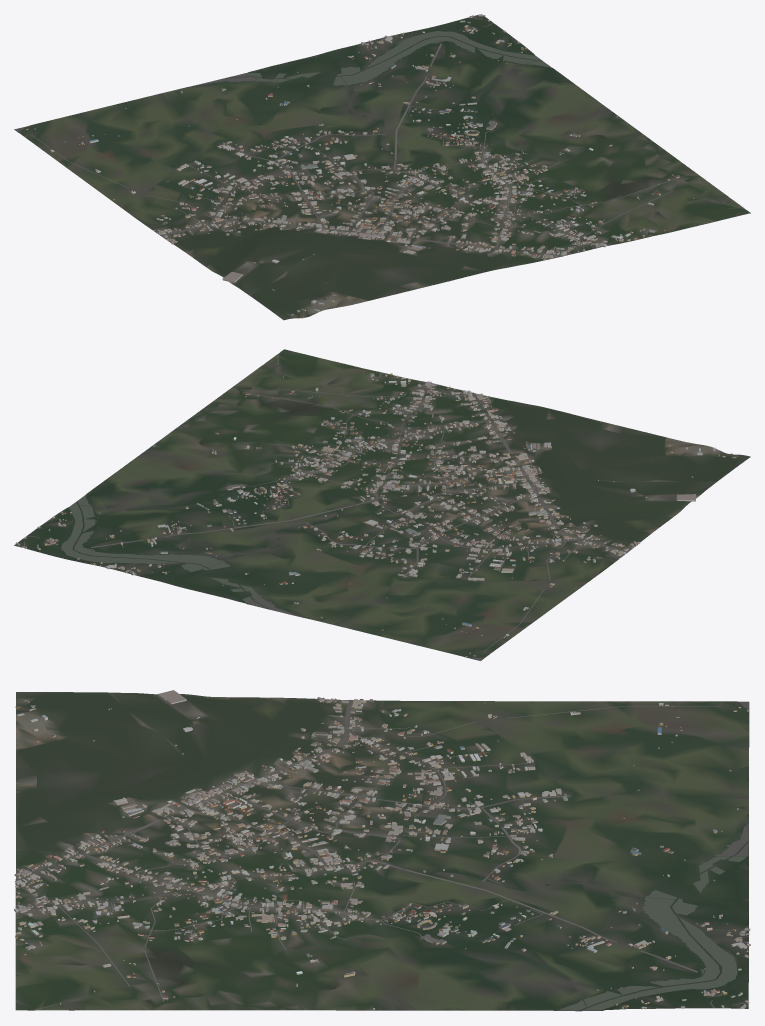
The picture shows the model from 3 angles, top to bottom: view 1: azimuth 30°, elevation 25°; view 2: azimuth 150°, elevation 25°; view 3: azimuth 270°, elevation 25°; orthographic projection. The views are drawn at different scales.
Parts seen in each view (by area): view 1: ground, buildings, water, roads; view 2: ground, buildings, water, roads; view 3: ground, buildings, water, roads.
Boxes of the visible parts, bbox=[...] form: ground: bbox=[14, 15, 750, 320]; buildings: bbox=[25, 14, 725, 318]; water: bbox=[14, 31, 550, 131]; roads: bbox=[31, 15, 743, 256]; ground: bbox=[14, 349, 750, 660]; buildings: bbox=[15, 363, 736, 656]; water: bbox=[61, 493, 483, 660]; roads: bbox=[19, 354, 627, 651]; ground: bbox=[15, 692, 749, 1011]; buildings: bbox=[14, 690, 750, 1009]; water: bbox=[459, 701, 748, 1010]; roads: bbox=[15, 700, 748, 1010].
Size of the model in its own units: 2822 by 52.71 by 2816.
